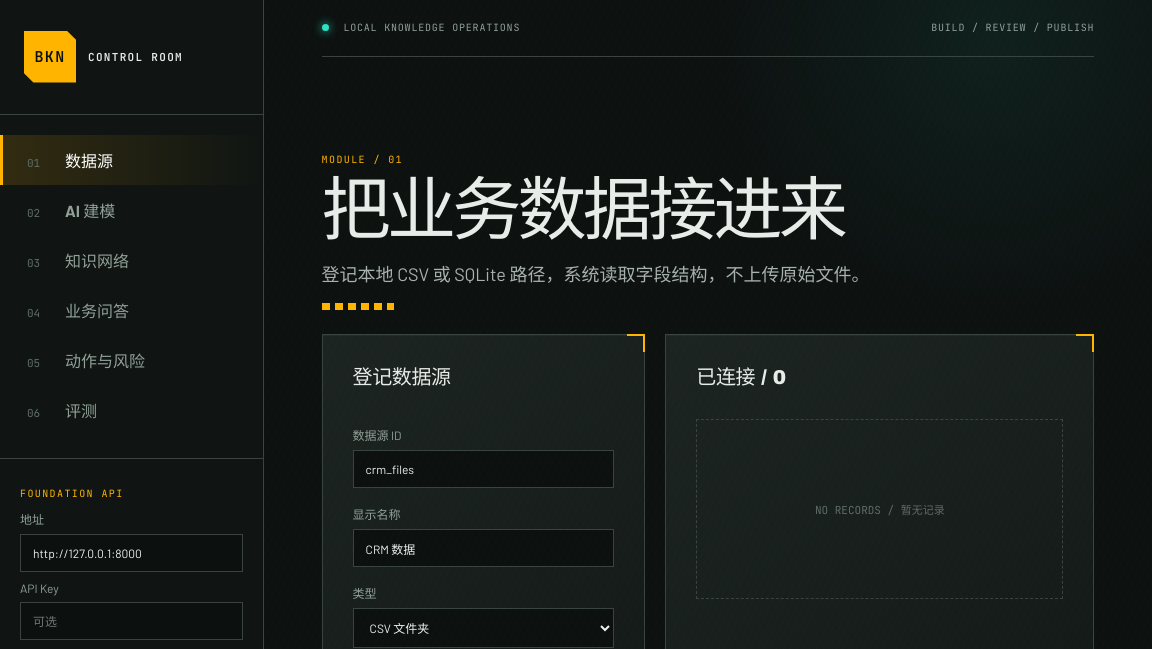
Test case: MiniBKN control room › keeps evaluation numbers empty until a real report is loaded
Click the button "06 评测" at (81,410), box 0,385 -> 263,435
(page scrolled)
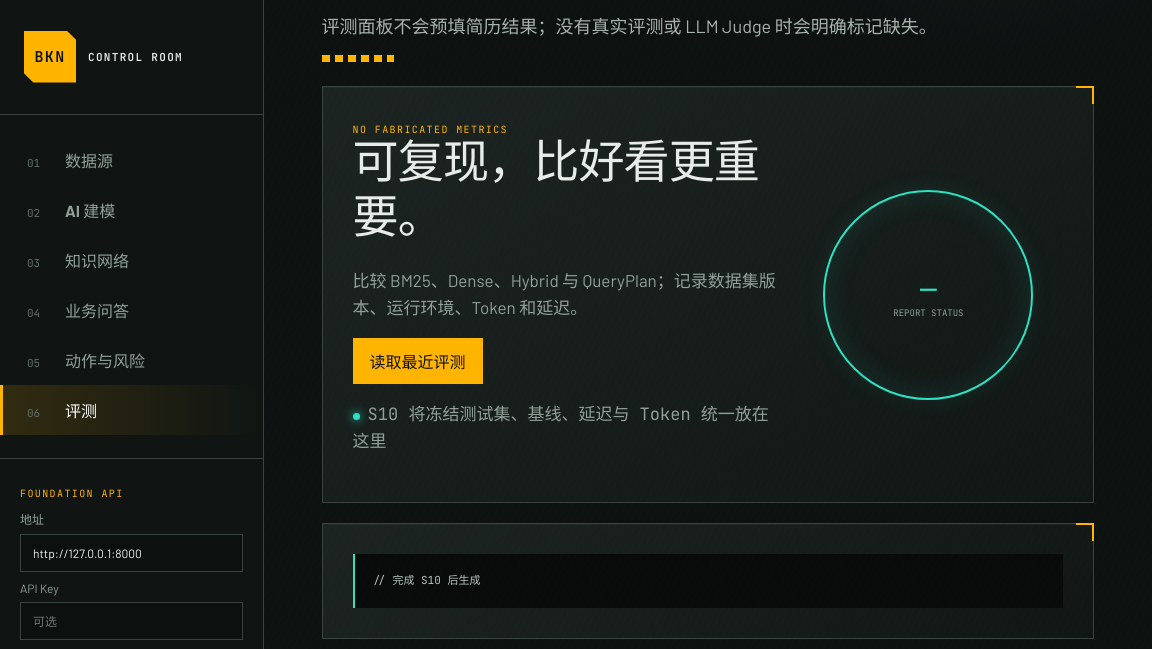
Expected: the text "NO FABRICATED METRICS" is shown, 353,123 -> 508,136
Expected: the text "// 完成 S10 后生成" is shown, 353,554 -> 1063,608
